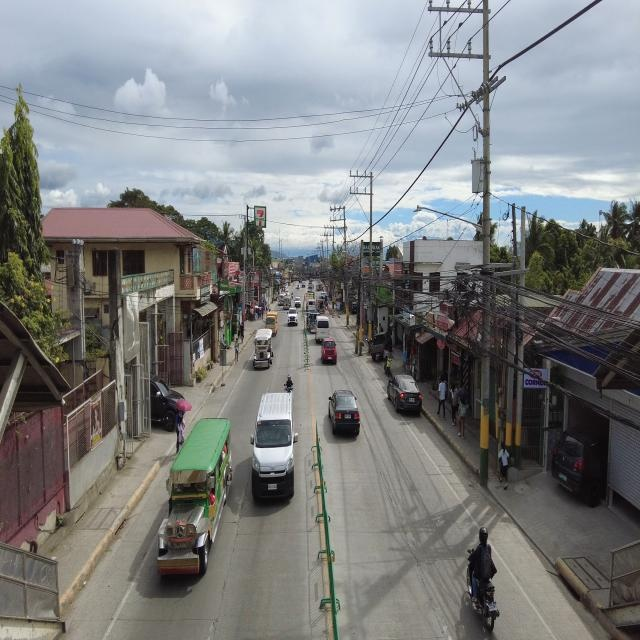Motorcycle: (464, 535, 506, 632)
Van: (247, 390, 303, 505)
